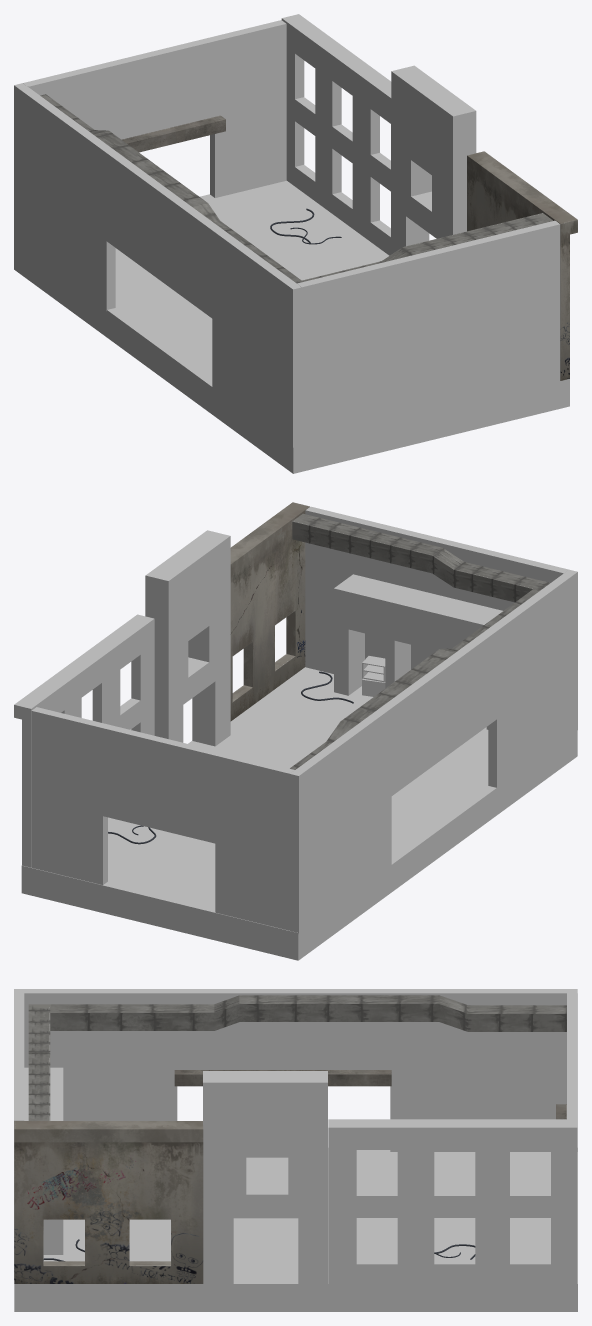
File: building in03.fbx
3 renders of one model, top to bottom at view 1: azimuth 30°, elevation 25°; view 2: azimuth 150°, elevation 25°; view 3: azimuth 270°, elevation 25°, orthographic.
Visible parts, largest first — view 1: Cube.003, Cube, Cube.001, Cube.021, Cube.010, Cube.016, Cube.009, Cube.011, Cube.008, Cube.023; view 2: Cube, Cube.001, Cube.021, Cube.016, Cube.009, Cube.004, Cube.010, Cube.003, Cube.008, Cube.011; view 3: Cube, Cube.001, Cube.010, Cube.009, Cube.016, Cube.011, Cube.008, Cube.004, Cube.024, Cube.003, Cube.021.
Part boxes in pixels (box(x1,y1,x2,y2)): Cube.003: box(297, 220, 560, 445); Cube: box(14, 83, 301, 447); Cube.001: box(14, 180, 569, 473); Cube.021: box(23, 20, 286, 197); Cube.010: box(281, 14, 391, 255); Cube.016: box(391, 65, 476, 254); Cube.009: box(467, 151, 577, 380); Cube.011: box(40, 94, 301, 281); Cube.008: box(295, 213, 552, 283); Cube.023: box(122, 115, 225, 152); Cube: box(290, 569, 577, 933); Cube.001: box(21, 667, 577, 960); Cube.021: box(31, 707, 294, 930); Cube.016: box(145, 530, 230, 746); Cube.009: box(230, 502, 309, 721); Cube.004: box(334, 574, 502, 729); Cube.010: box(14, 614, 154, 867); Cube.003: box(305, 506, 568, 673); Cube.008: box(292, 513, 550, 602); Cube.011: box(290, 589, 539, 769); Cube: box(14, 989, 577, 1151); Cube.001: box(14, 1148, 577, 1311); Cube.010: box(328, 1119, 577, 1283); Cube.009: box(14, 1121, 203, 1283); Cube.016: box(203, 1071, 327, 1283); Cube.011: box(50, 995, 566, 1031); Cube.008: box(28, 1004, 50, 1120); Cube.004: box(24, 1067, 63, 1254); Cube.024: box(174, 1070, 391, 1086); Cube.003: box(14, 993, 24, 1279); Cube.021: box(567, 993, 577, 1119).
Size of the model in its own units: 23652 by 18008 by 40136.
